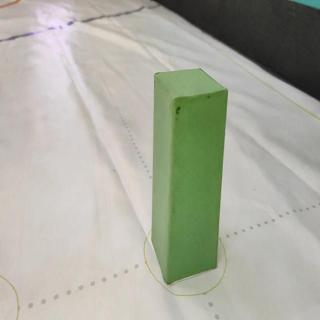greenbox: (149, 67, 230, 285)
